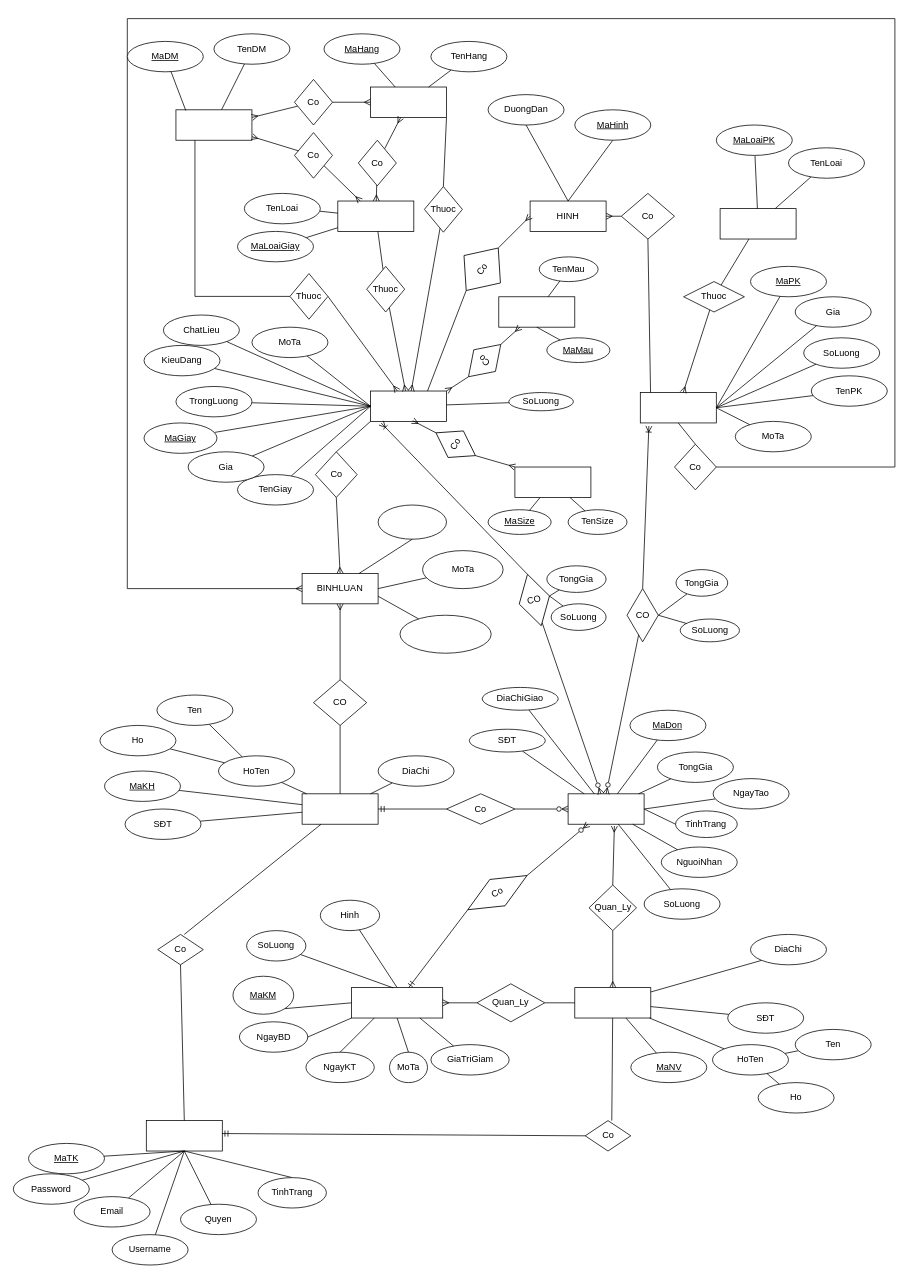
This 914x1278 diagram has some shape labels left out. The centre of each missing label's shape, as x and y in pixels:
DANHMUC: [213,124]
DONHANG: [605,808]
DS_KHUYENMAI: [397,1002]
GIAY: [408,405]
HANG: [408,101]
KHACHHANG: [339,808]
LOAIGIAY: [375,215]
LOAIPHUKIEN: [757,223]
MaBL: [411,521]
MAUSAC: [536,311]
NHANVIEN: [612,1002]
PHUKIEN: [678,407]
SIZE: [552,481]
TAIKHOAN: [184,1135]
ThoiGian: [445,633]
